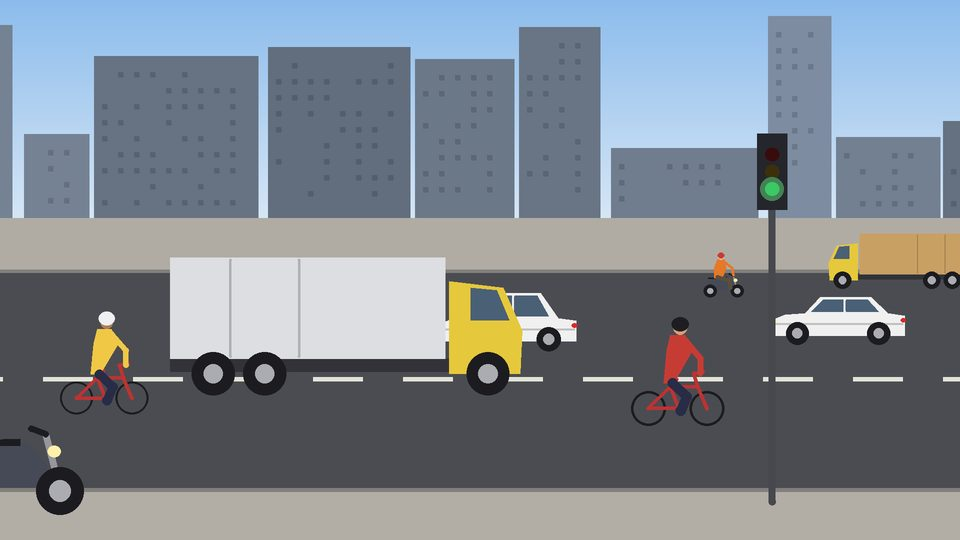Car: (771, 297, 905, 345), (506, 293, 577, 352)
Cyclist: (631, 317, 724, 426), (60, 312, 149, 415)
Motorcycle: (0, 426, 83, 515)
Motorcyclist: (704, 253, 744, 298)
Traffic light: (757, 134, 788, 210)
Truck: (170, 258, 523, 396), (829, 234, 960, 289)
